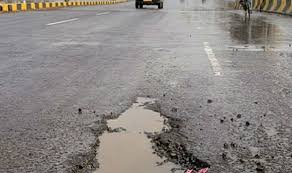potholes: (62, 70, 234, 173), (103, 98, 111, 111)
